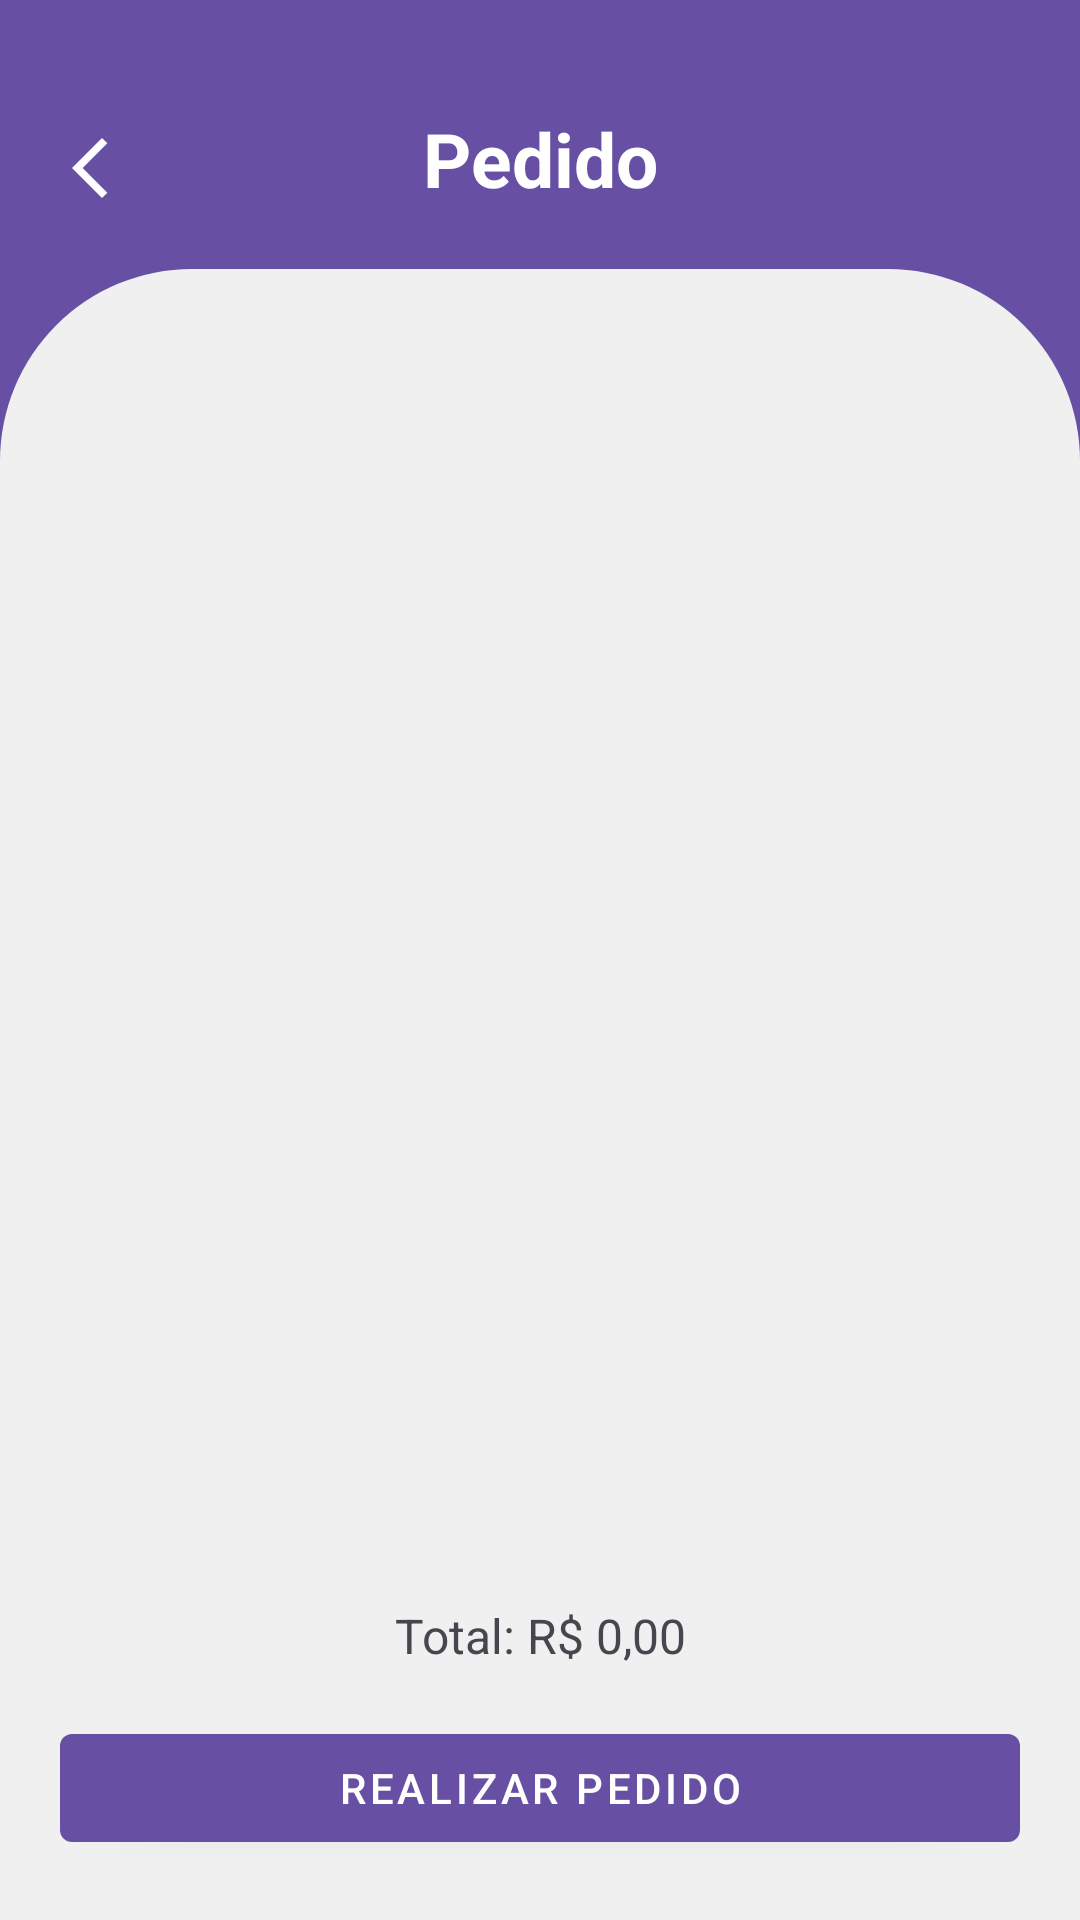

Where to tap for icons on this 1080px x 1920px app screen, as (x,y):
Voltar: (89,168)
